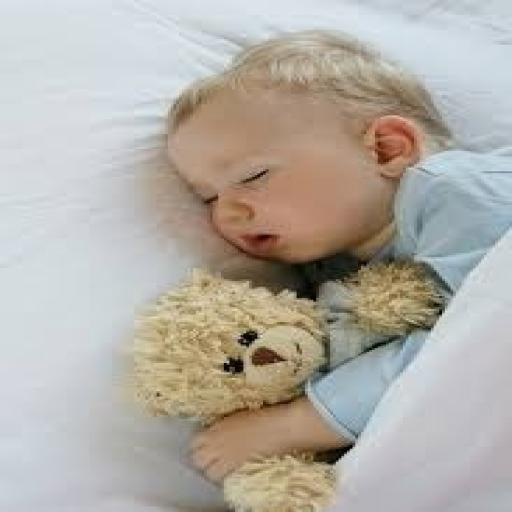sleeping: (157, 28, 509, 510)
